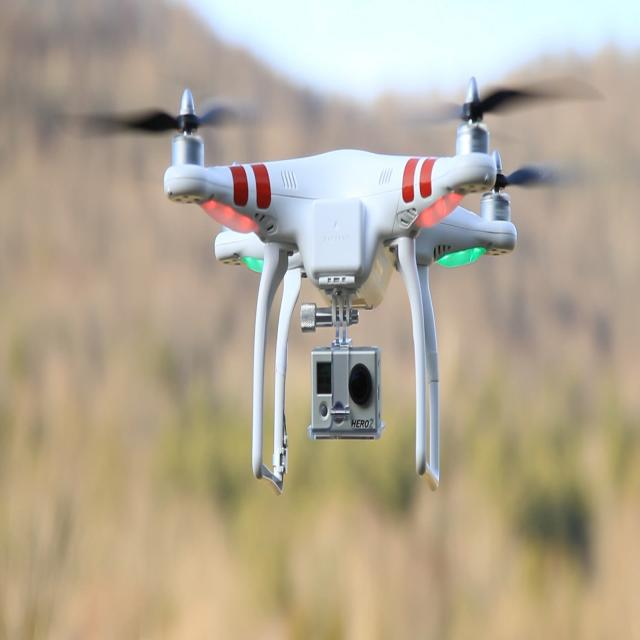drones: (50, 64, 620, 504)
